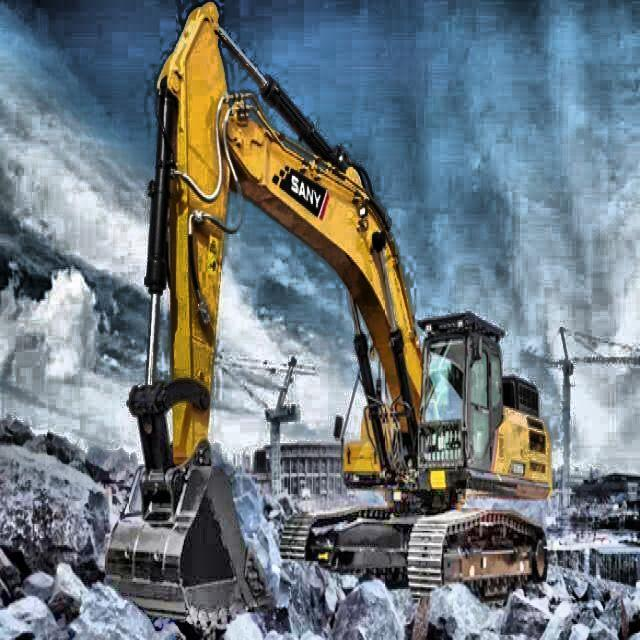excavator: (102, 0, 557, 636)
